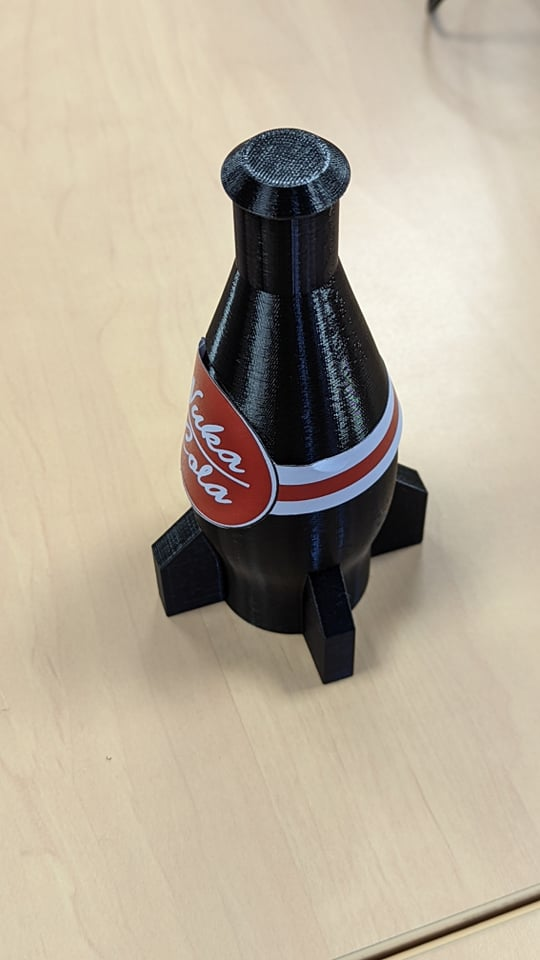bottle: (136, 108, 436, 712)
